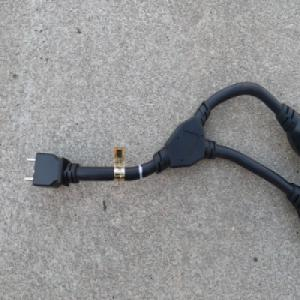Wire: (23, 80, 300, 225)
